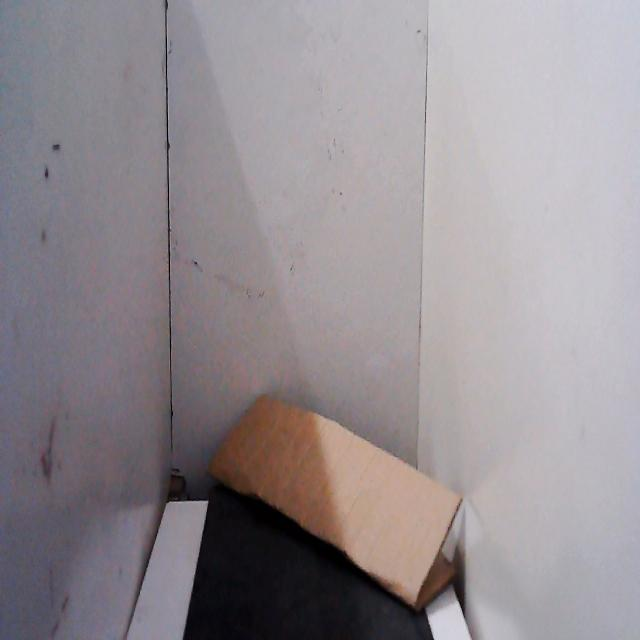papel: (200, 378, 467, 618)
